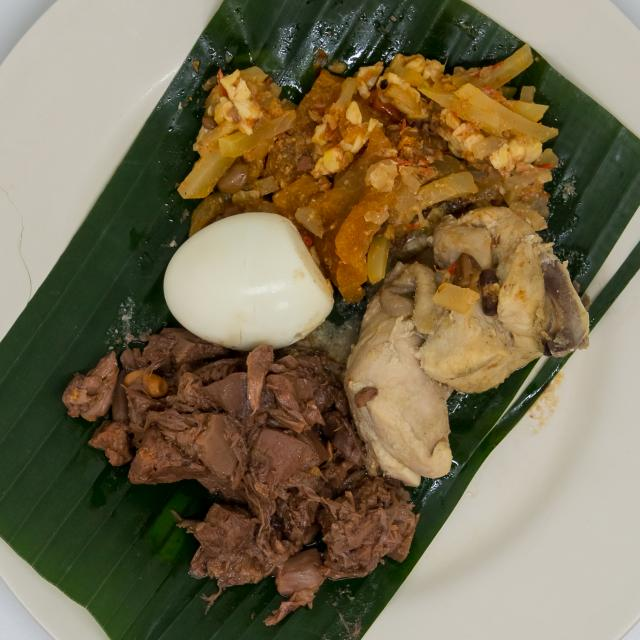Gudeg-Jogja: (44, 35, 592, 617)
